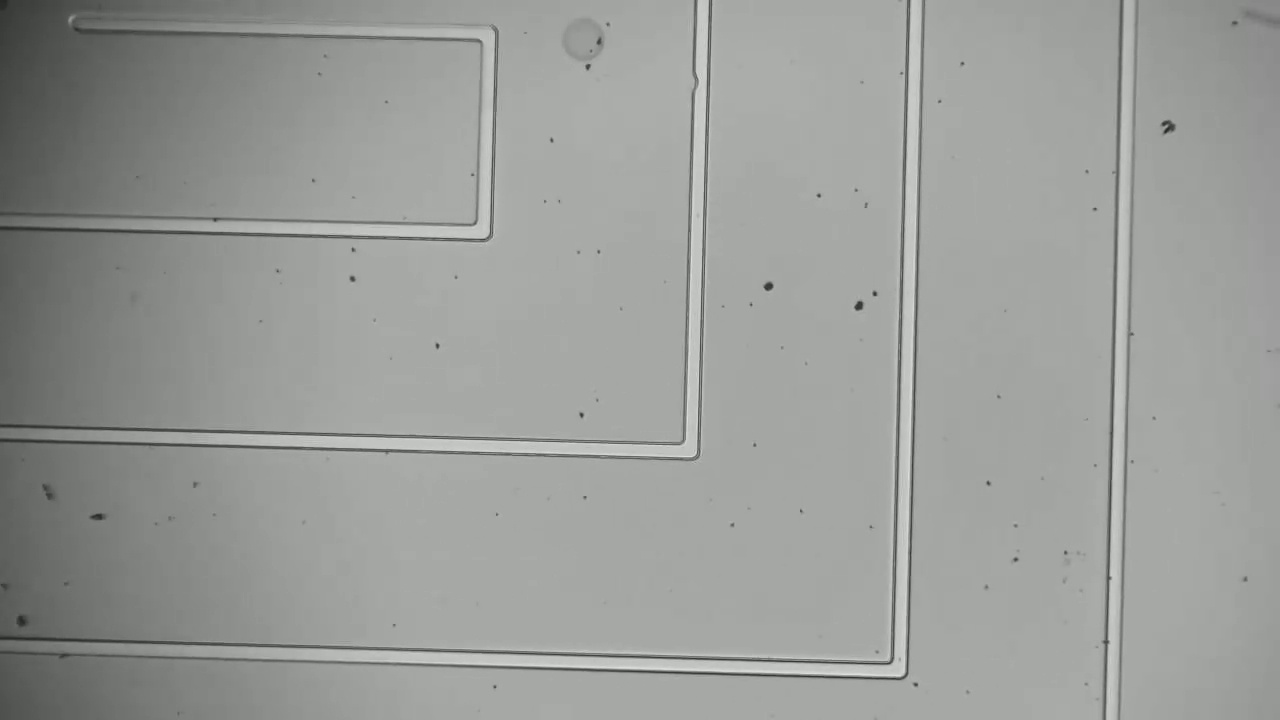edge_bite: (675, 66, 722, 101)
